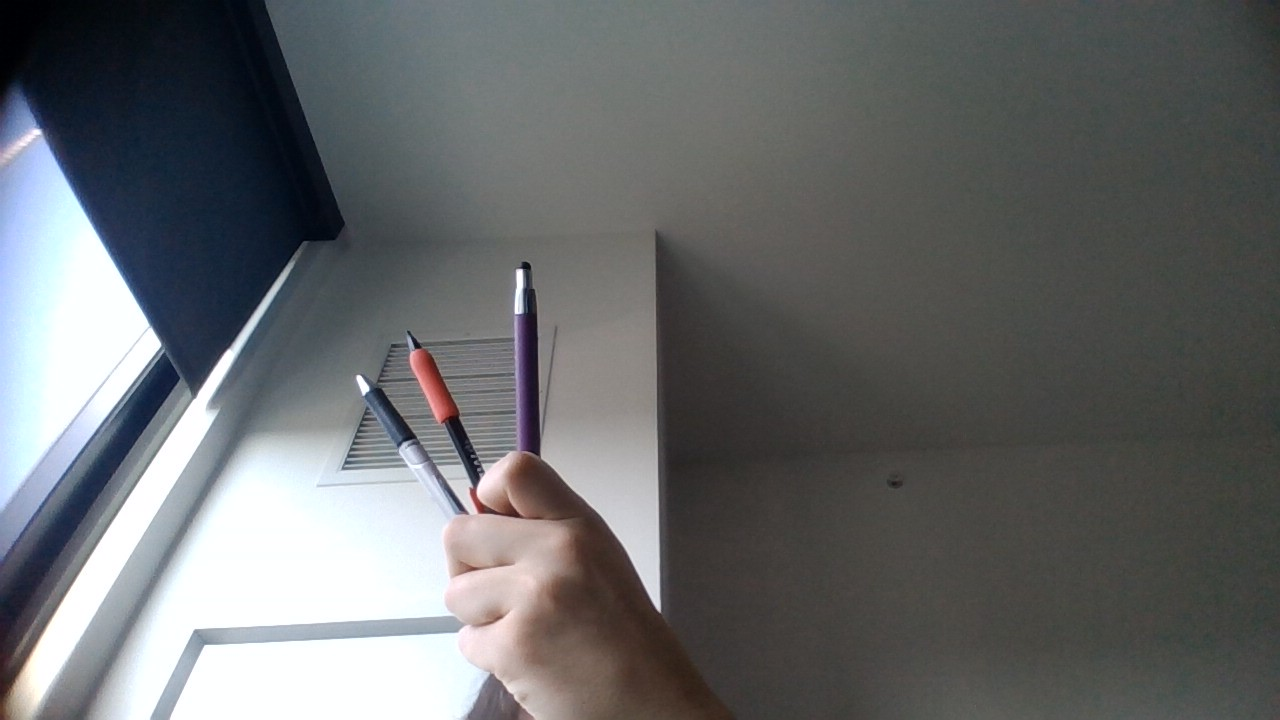Cypres Pen Purple: (510, 262, 540, 460)
Red Mechanical Pencil: (405, 328, 502, 512)
Silver Pen: (355, 369, 464, 522)
